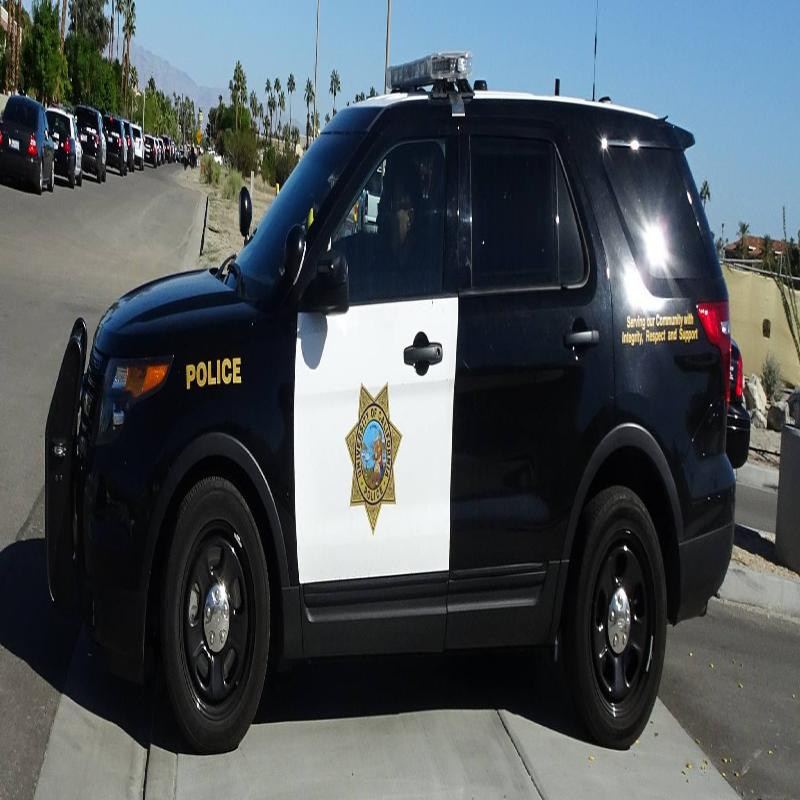AmbulanceSiren: (381, 42, 474, 102)
